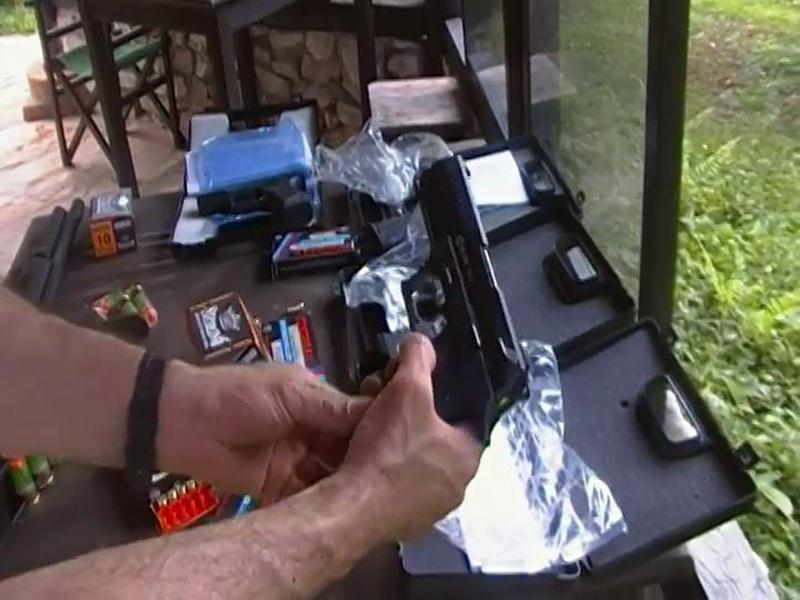Pistola: (322, 134, 533, 469)
